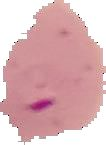parasitized: (17, 58, 82, 122)
